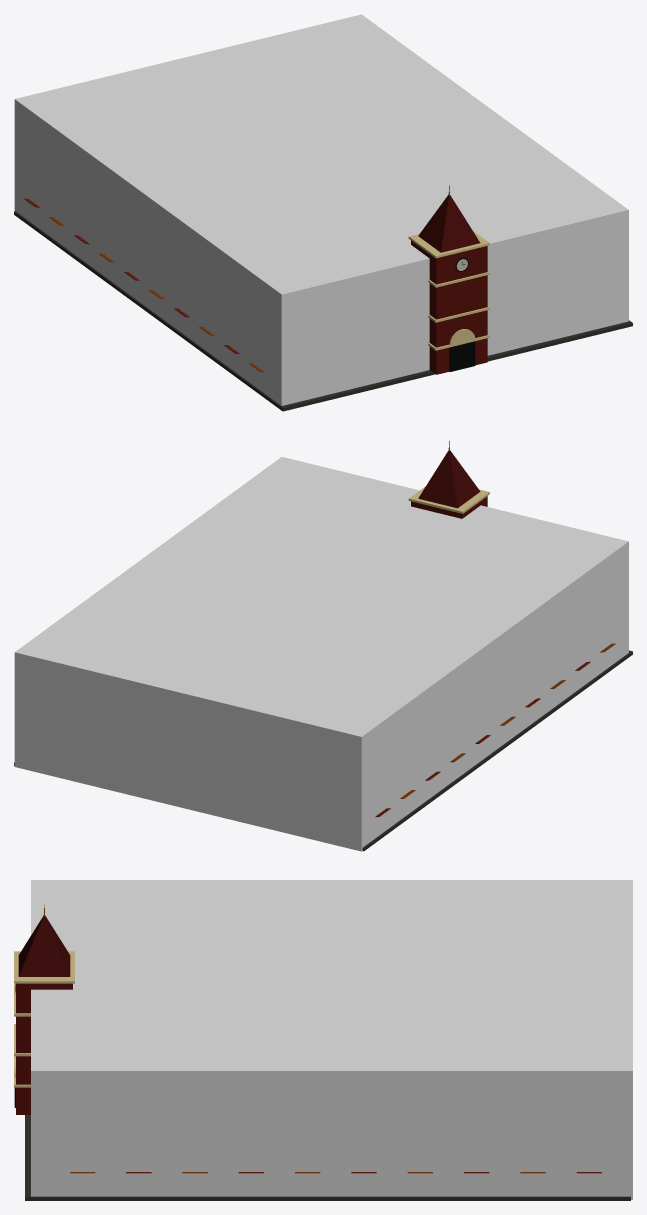
Rendered from B39_market_heritage.glb.
The picture shows the model from 3 angles, top to bottom: view 1: azimuth 30°, elevation 25°; view 2: azimuth 150°, elevation 25°; view 3: azimuth 270°, elevation 25°; orthographic projection. The views are drawn at different scales.
Visible parts, largest first — view 1: COL_Main, LOD0; view 2: COL_Main, LOD0; view 3: COL_Main, LOD0.
Boxes of the visible parts, bbox=[...] form: COL_Main: bbox=[14, 14, 628, 405]; LOD0: bbox=[14, 185, 632, 411]; COL_Main: bbox=[14, 457, 628, 851]; LOD0: bbox=[14, 441, 632, 851]; COL_Main: bbox=[31, 880, 632, 1199]; LOD0: bbox=[14, 904, 630, 1200].
Size of what is drawn, in the model's own units: 58.37 by 27.9 by 78.15.
